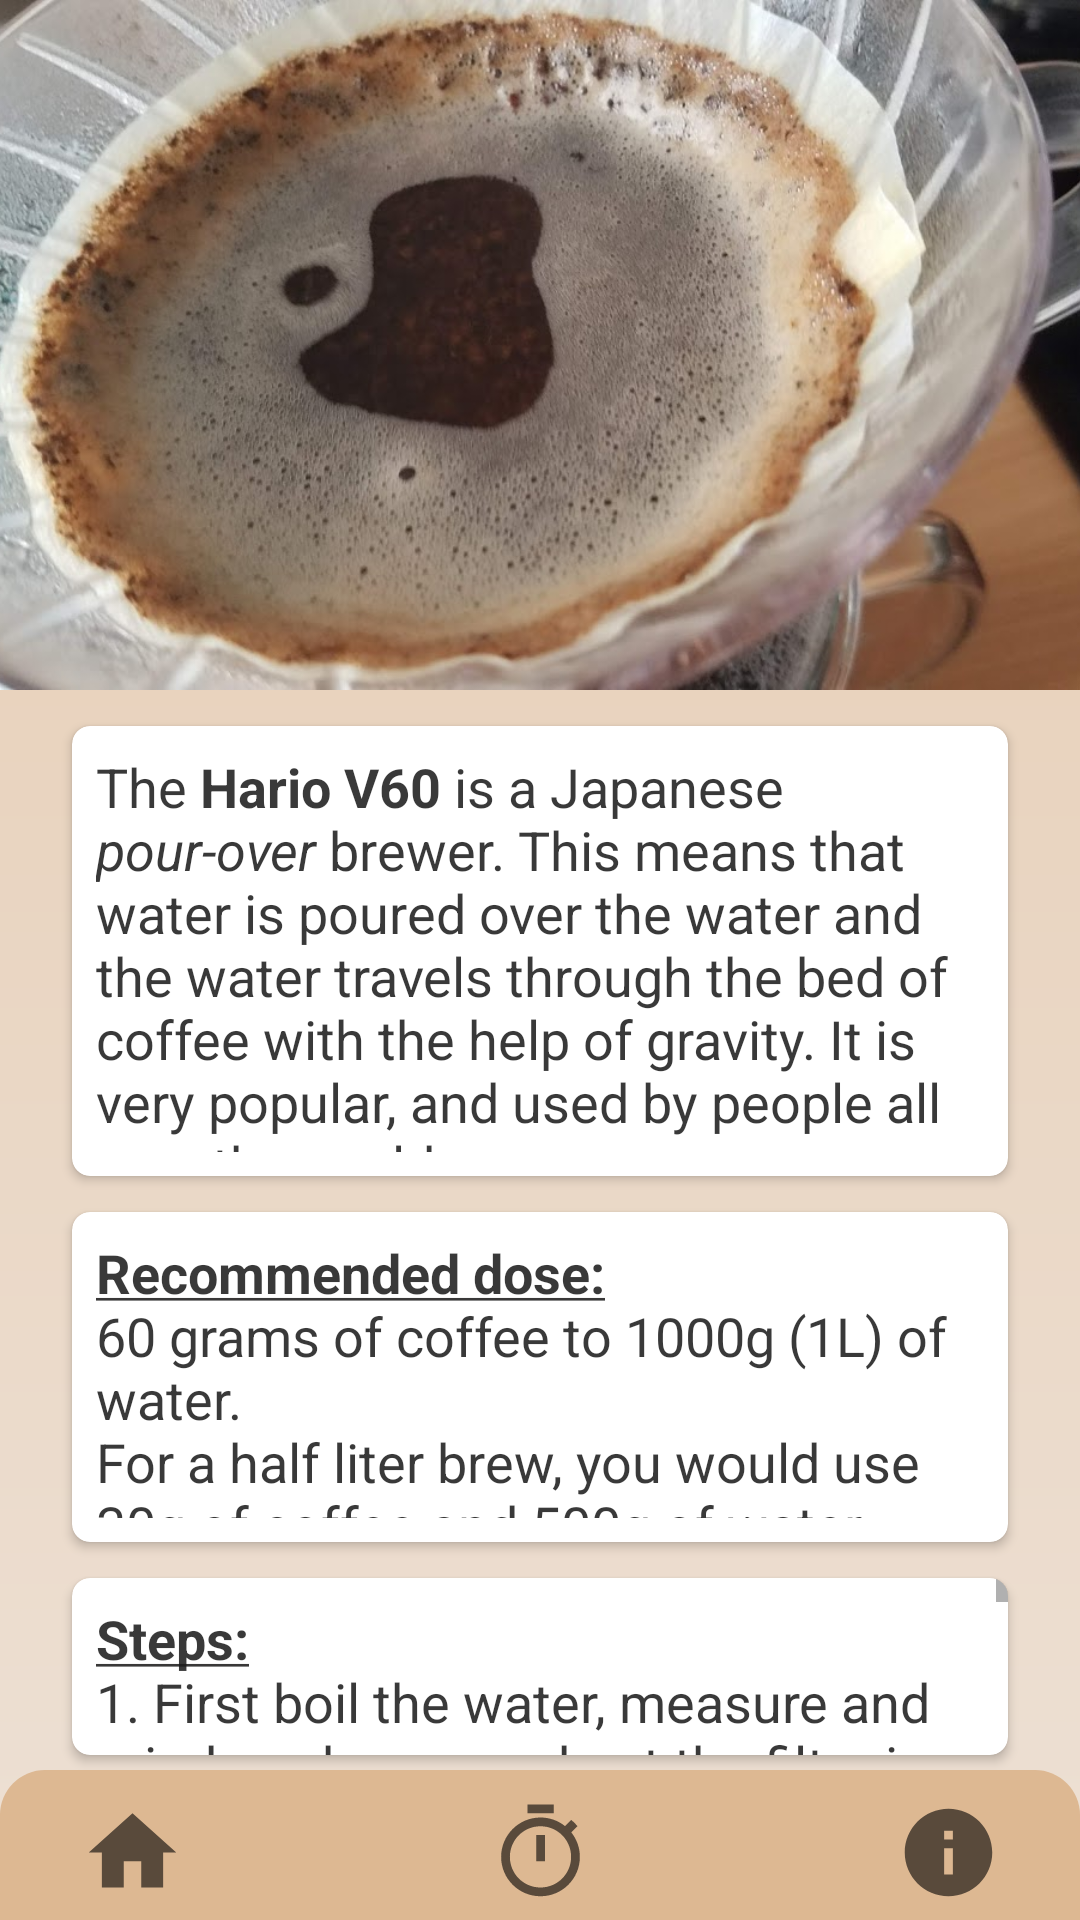

Where icons sit on this 1080×1920 app screen, as rect(x1, y1, x2, y2):
home: rect(89, 1813, 176, 1888)
info: rect(904, 1808, 993, 1897)
Stopwatch: rect(501, 1804, 580, 1897)
